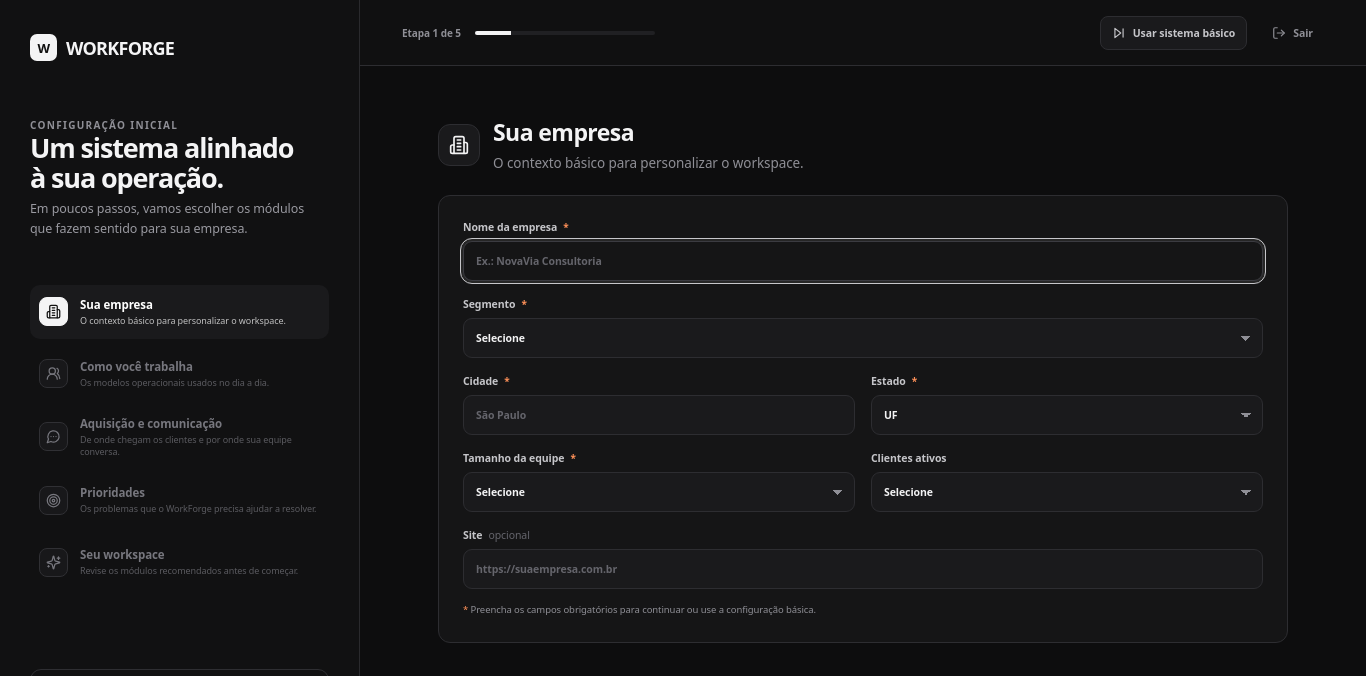
Test: onboarding and workspace configuration › allows using a basic workspace without completing the form
Click the button "Usar sistema básico" at (1174, 32), box [1100,16,1247,50]
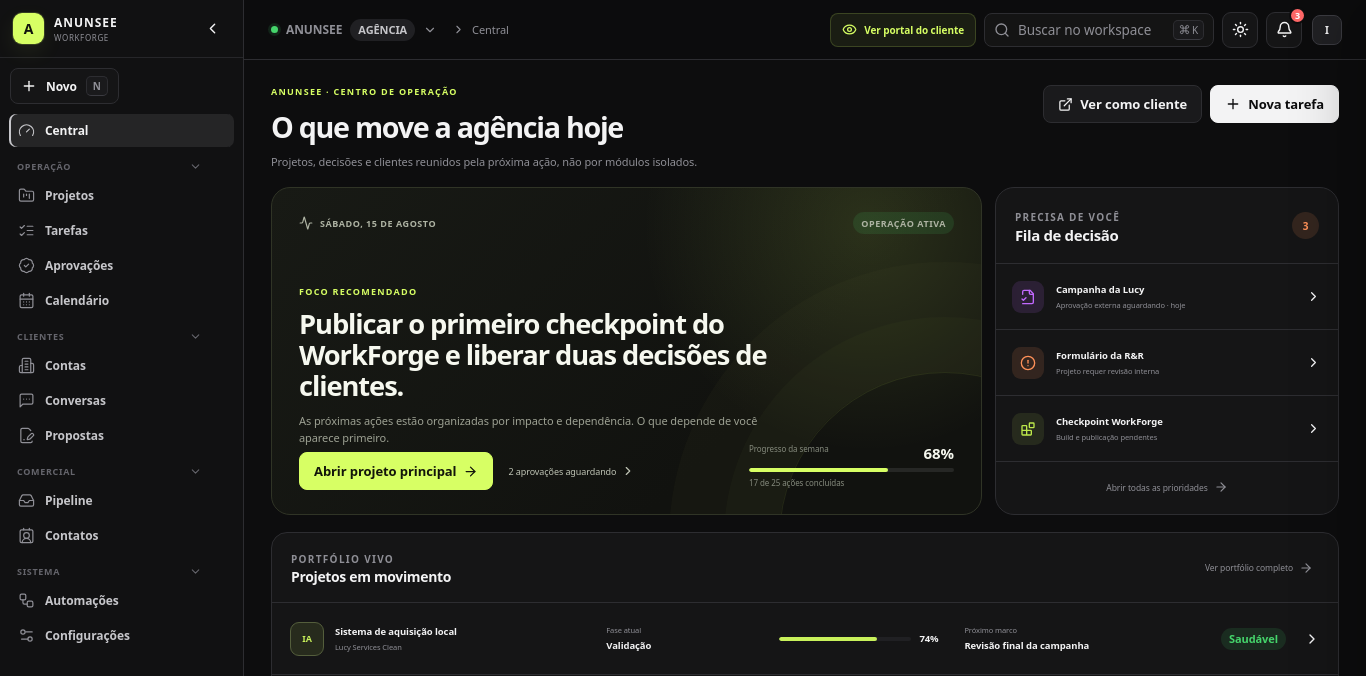
Check: the heading "O que move a agência hoje" is shown, box [271,107,623,146]
